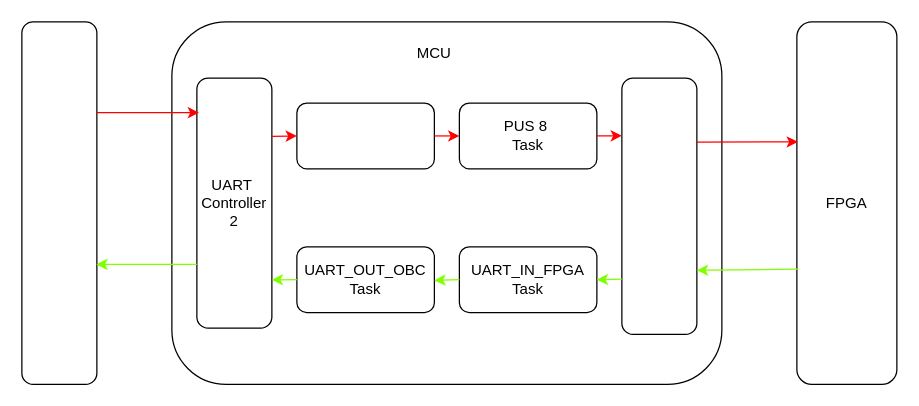
This 919x406 diagram has some shape labels left out. The centre of each missing label's shape, as x and y in pixels:
"OBC" belongs at [59,202].
"UART Controller 1" belongs at [659,205].
"UART_IN_OBC Task" belongs at [365,135].
